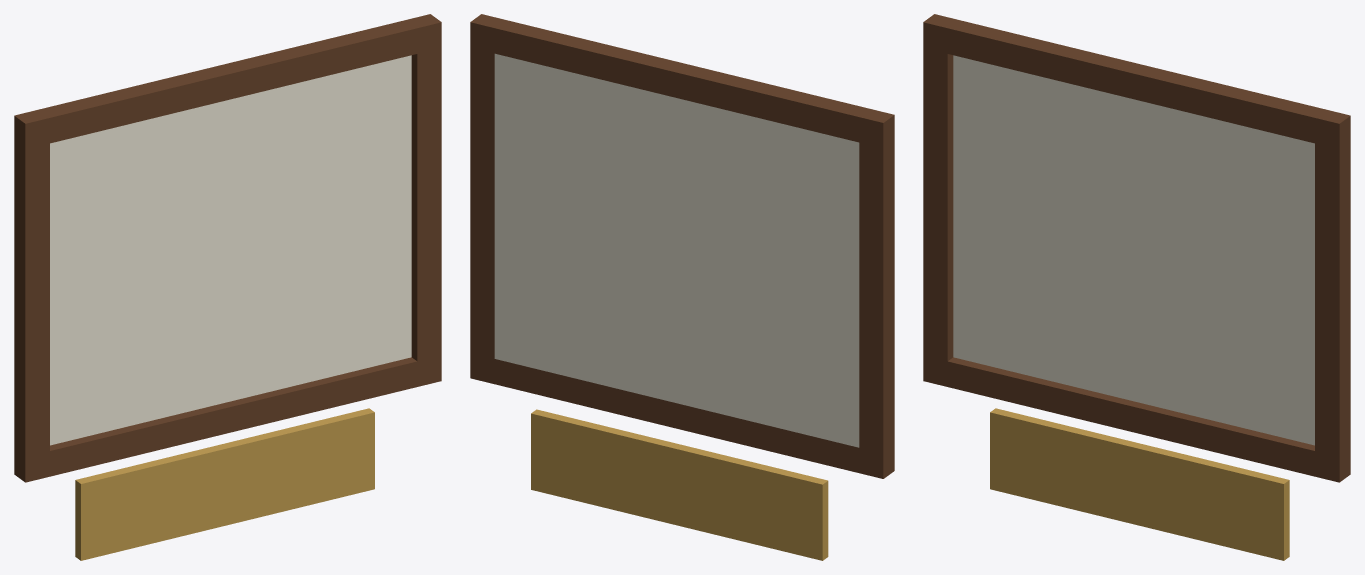
The model's file is SM_Gallery_Frame.fbx.
3 views of the same model, side by side, from view 1: azimuth 30°, elevation 25°; view 2: azimuth 150°, elevation 25°; view 3: azimuth 330°, elevation 25° (orthographic).
Parts seen in each view (by area): view 1: Picture, Plaque, Border_Top, Border_Bottom, Backing, Border_Right, Border_Left; view 2: Backing, Plaque, Border_Top, Border_Bottom, Border_Right, Border_Left; view 3: Picture, Plaque, Border_Top, Border_Bottom, Backing, Border_Left, Border_Right.
Boxes of the visible parts, <box> form: Picture: <box>58,66,400,431</box>; Plaque: <box>75,408,374,560</box>; Border_Top: <box>14,14,441,149</box>; Border_Bottom: <box>14,355,441,482</box>; Backing: <box>50,55,411,445</box>; Border_Right: <box>14,141,49,456</box>; Border_Left: <box>411,48,441,361</box>; Backing: <box>494,53,859,447</box>; Plaque: <box>531,409,828,560</box>; Border_Top: <box>470,14,894,148</box>; Border_Bottom: <box>470,353,894,478</box>; Border_Right: <box>859,140,894,453</box>; Border_Left: <box>470,47,494,358</box>; Picture: <box>964,66,1306,431</box>; Plaque: <box>990,408,1289,560</box>; Border_Top: <box>923,14,1350,149</box>; Border_Bottom: <box>923,355,1350,482</box>; Backing: <box>953,55,1314,445</box>; Border_Left: <box>1315,141,1350,456</box>; Border_Right: <box>923,48,953,361</box>.
Size of the model in its own units: 1.7 by 1.78 by 0.08.
